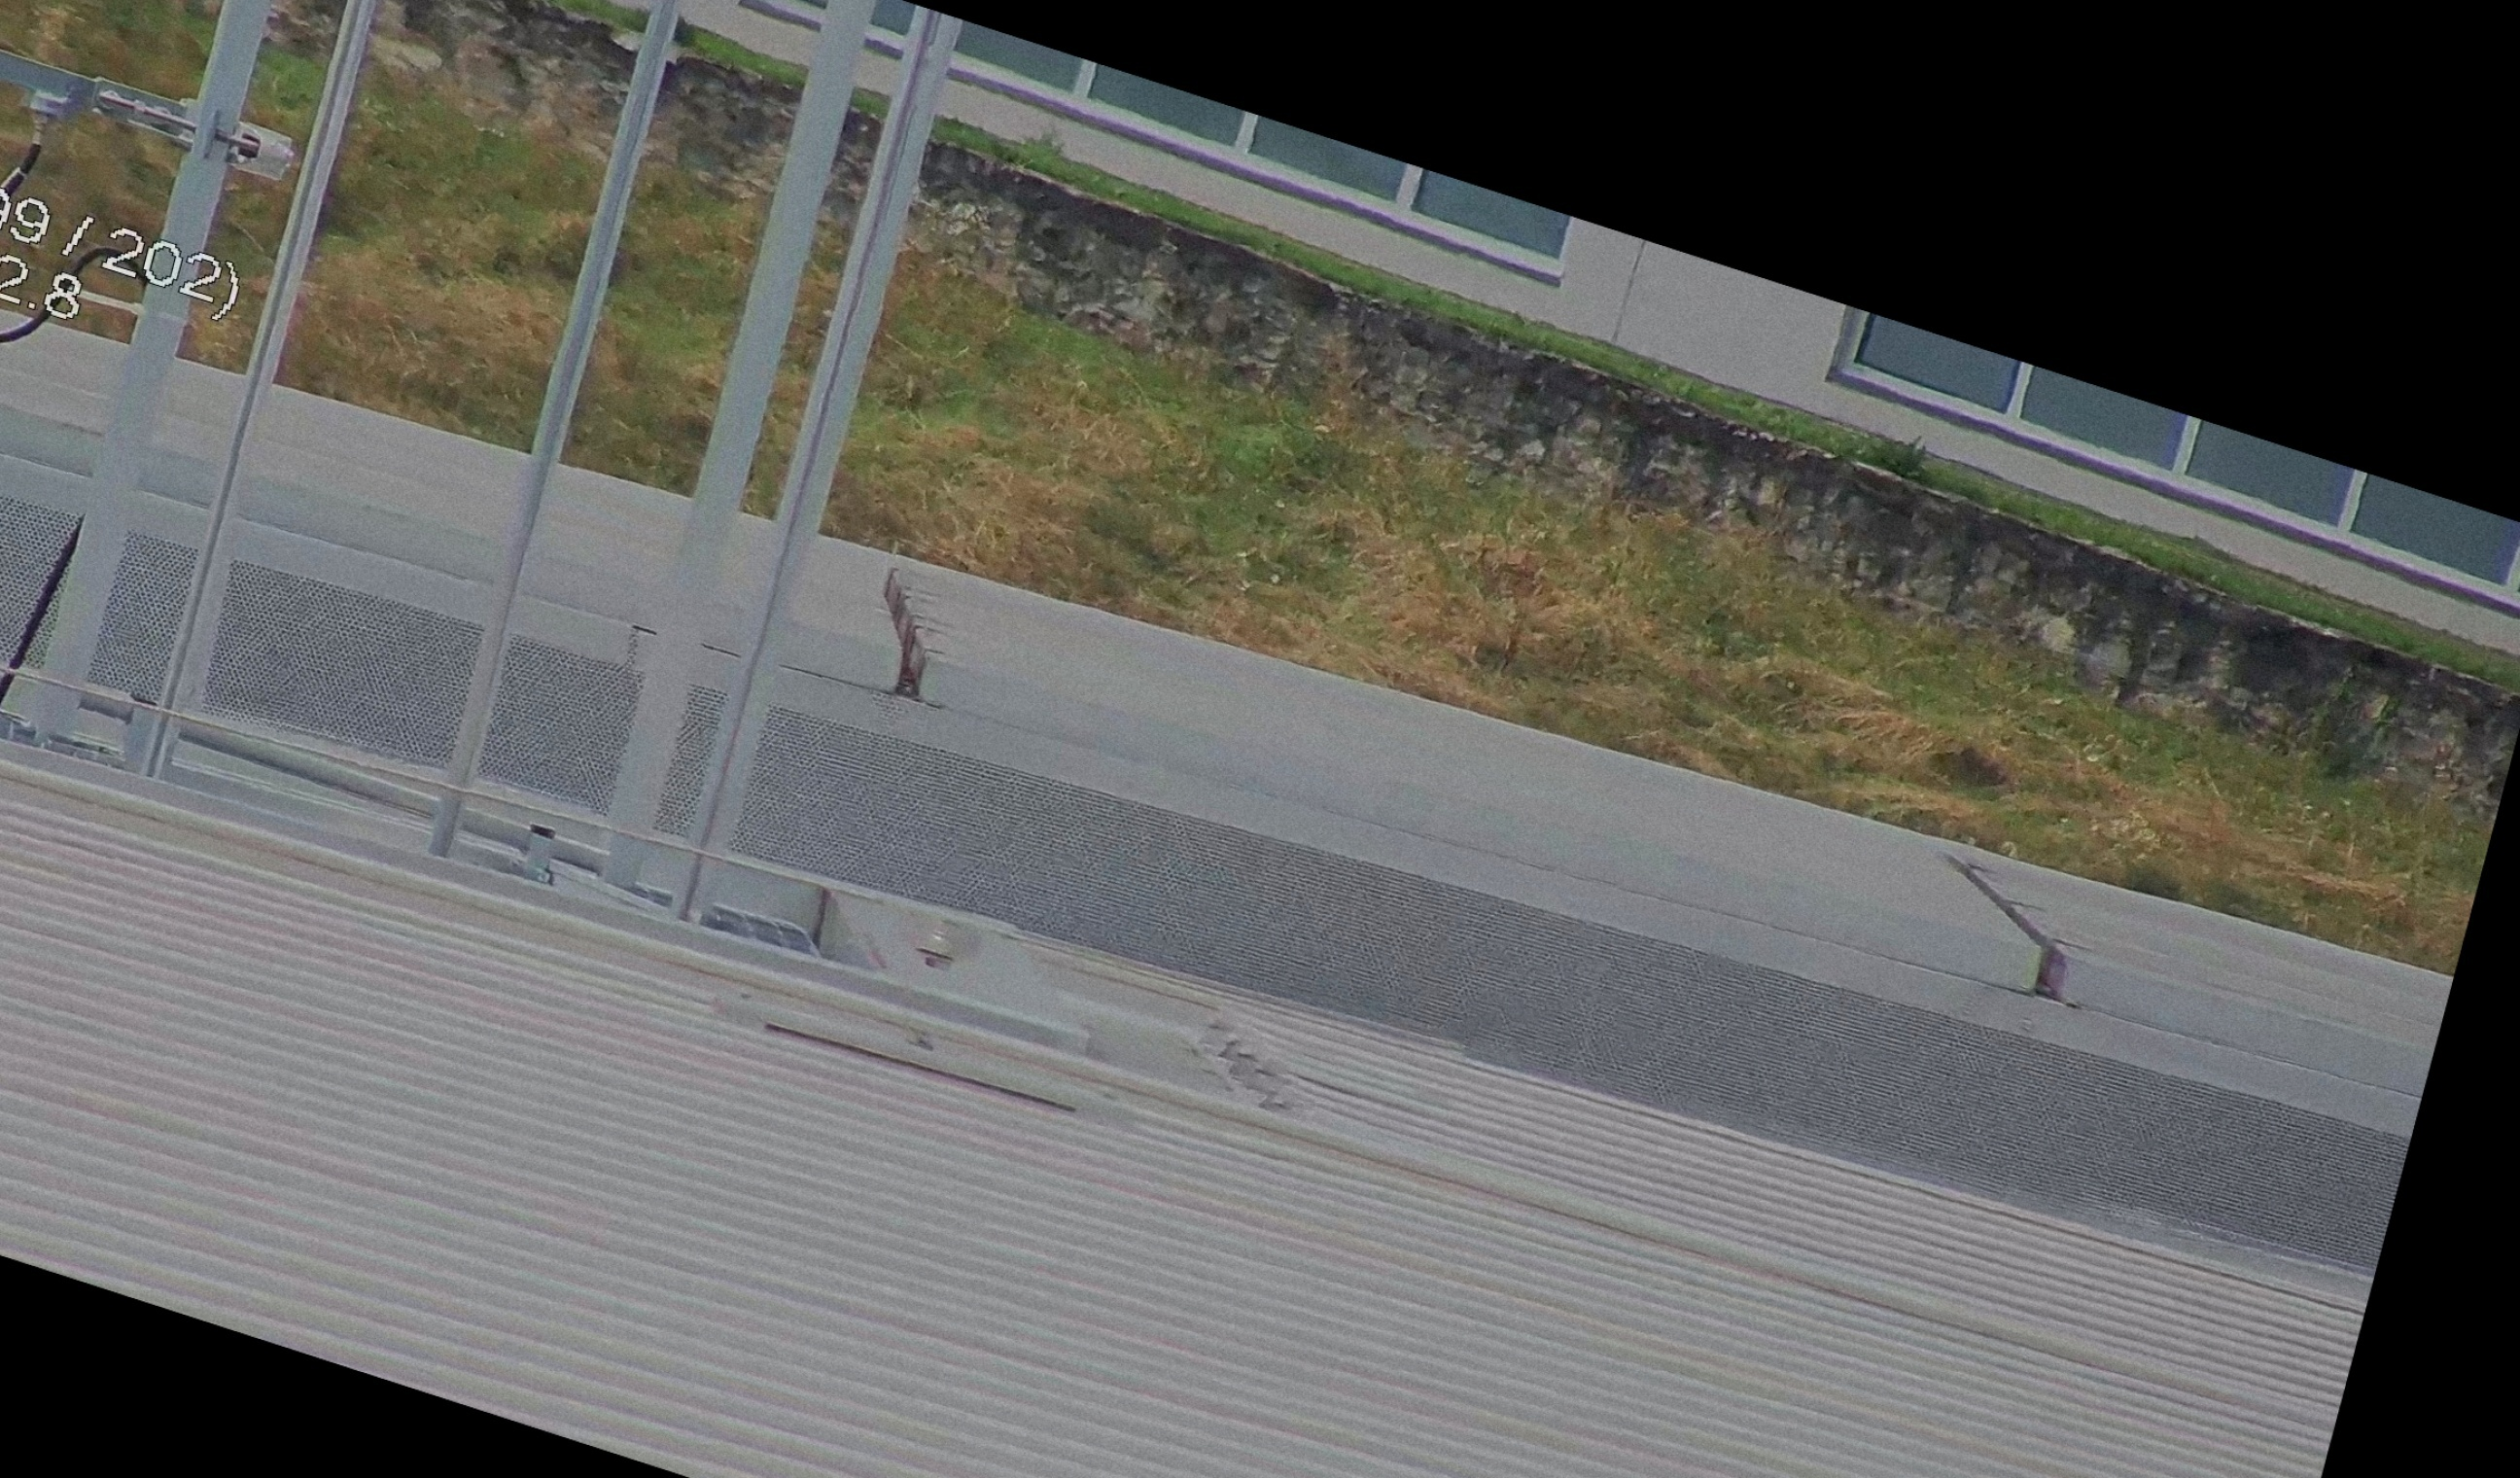Other: (830, 537, 990, 716)
